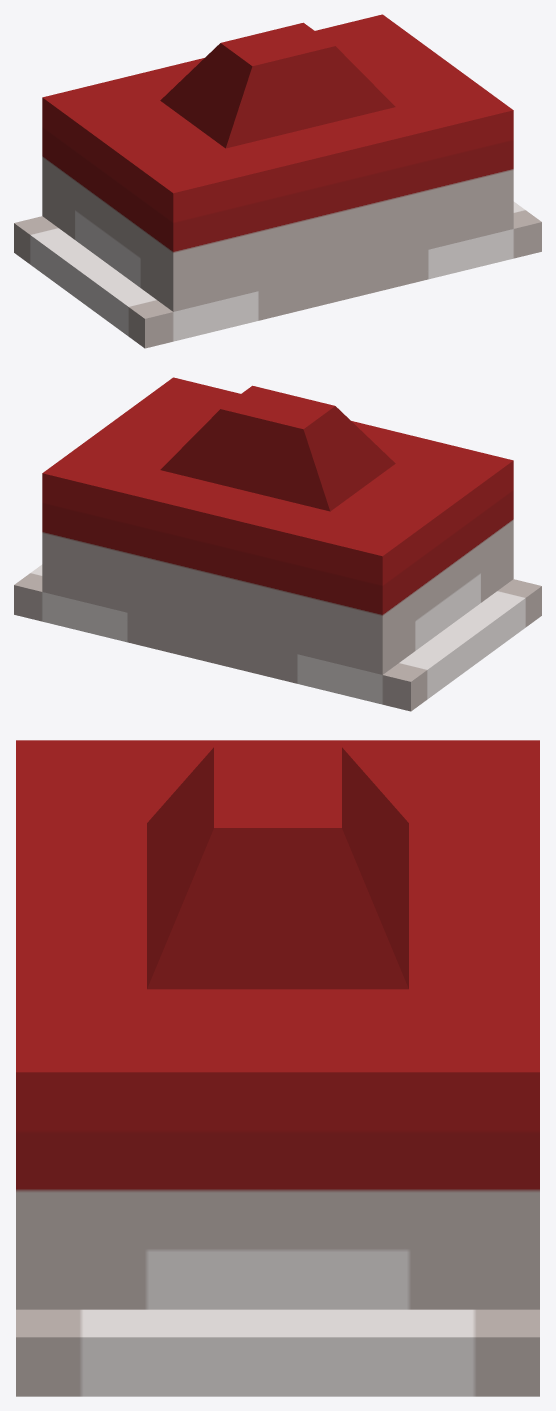
The picture shows the model from 3 angles, top to bottom: view 1: azimuth 30°, elevation 25°; view 2: azimuth 150°, elevation 25°; view 3: azimuth 270°, elevation 25°; orthographic projection. The views are drawn at different scales.
Parts seen in each view (by area): view 1: Root033; view 2: Root033; view 3: Root033.
Part boxes in pixels (<box>): Root033: <box>14,14,541,348</box>; Root033: <box>14,377,541,711</box>; Root033: <box>16,740,539,1396</box>.
Bounding box in the file's own units: 14 × 7 × 8.
